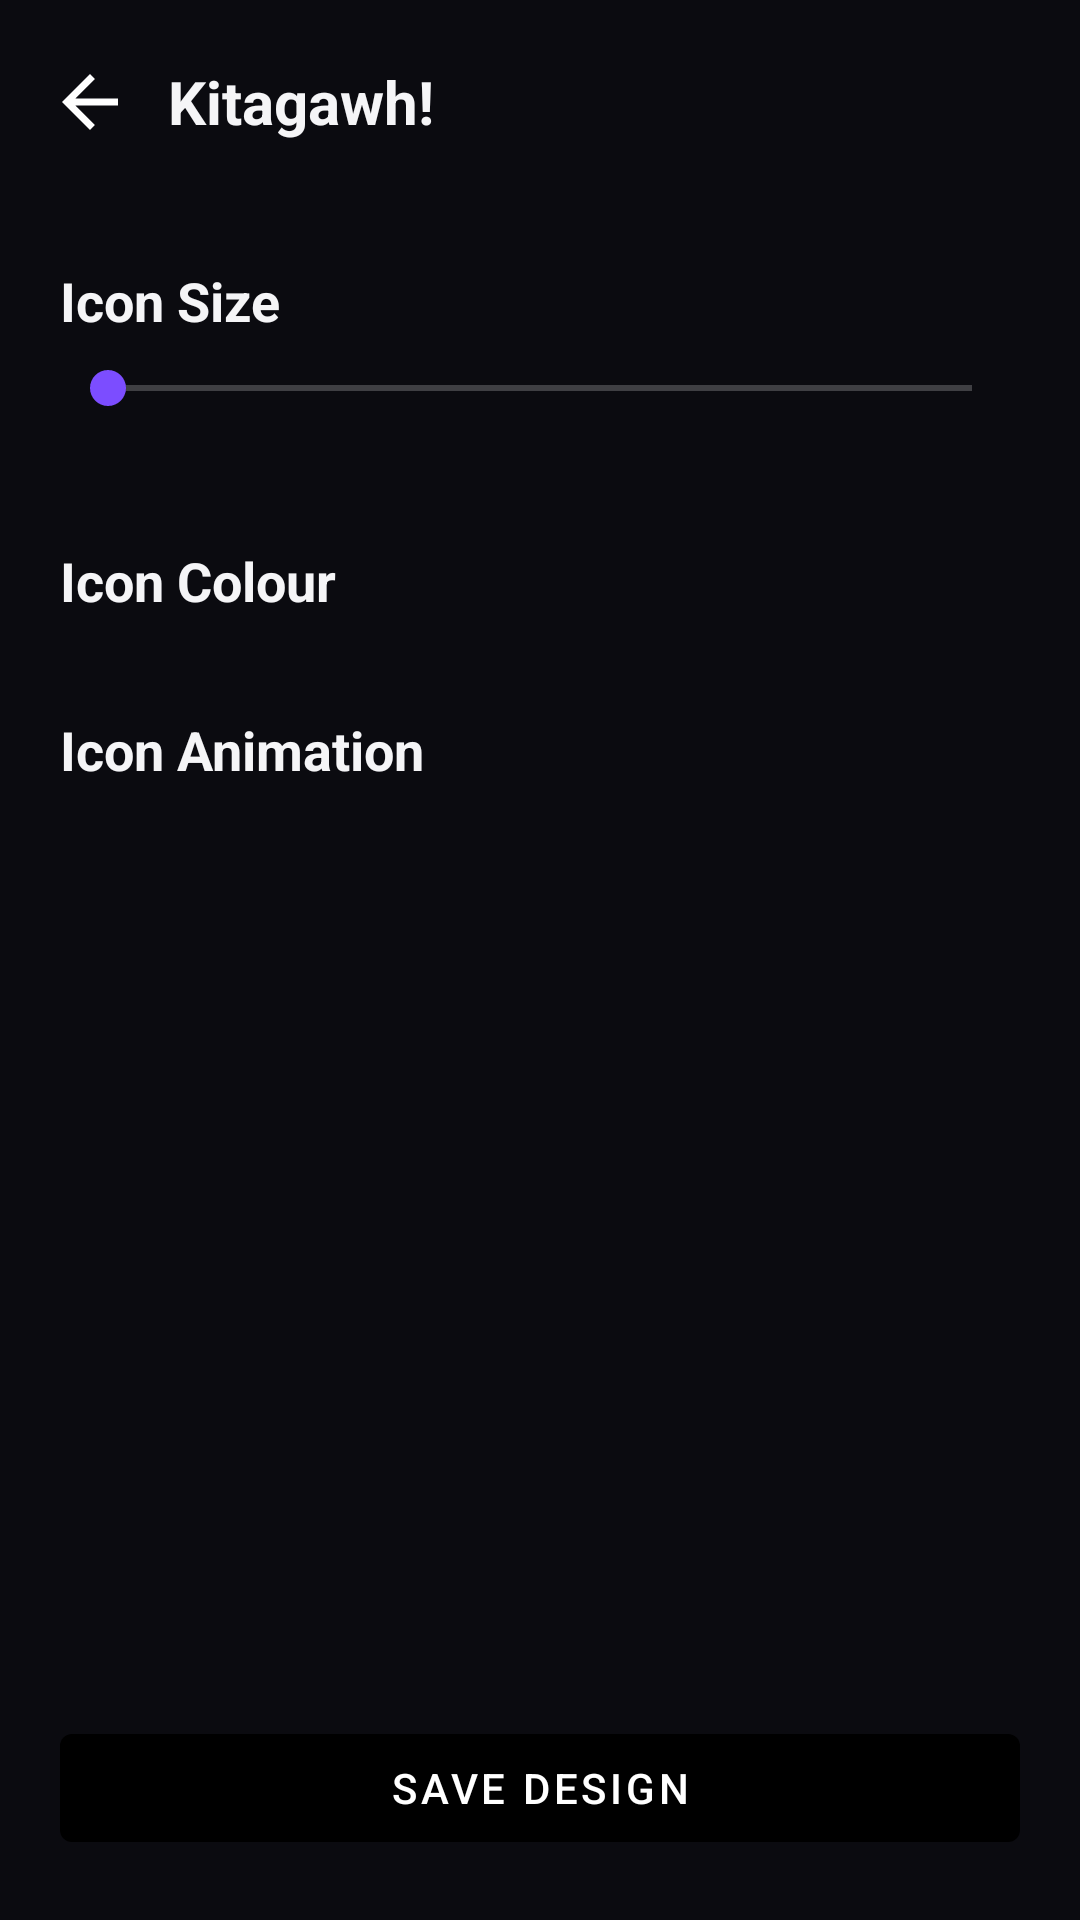

Icons on this 1080px x 1920px Android screen, each with its box as bbox=(x1, y1, x2, y2):
Back: bbox=(62, 74, 118, 130)
